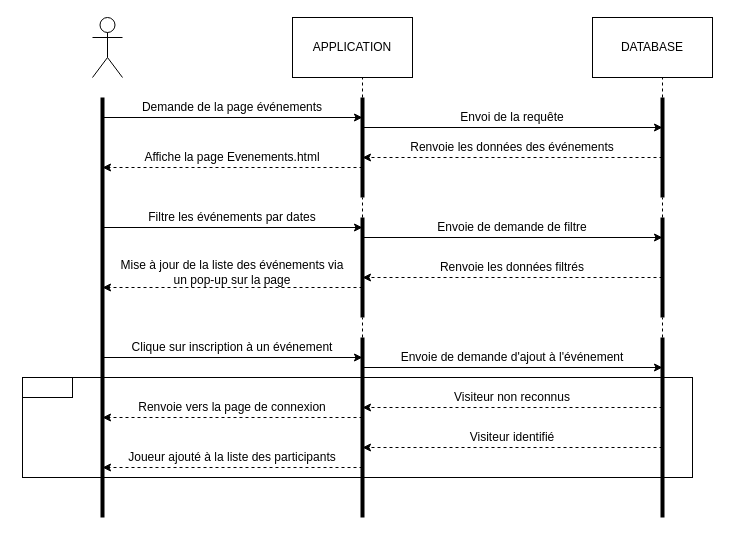
This 730x538 diagram has some shape labels left out. The centre of each missing label's shape, as x and y in pixels:
"Alt" belongs at point (47, 387).
"VISITOR" belongs at point (107, 47).
